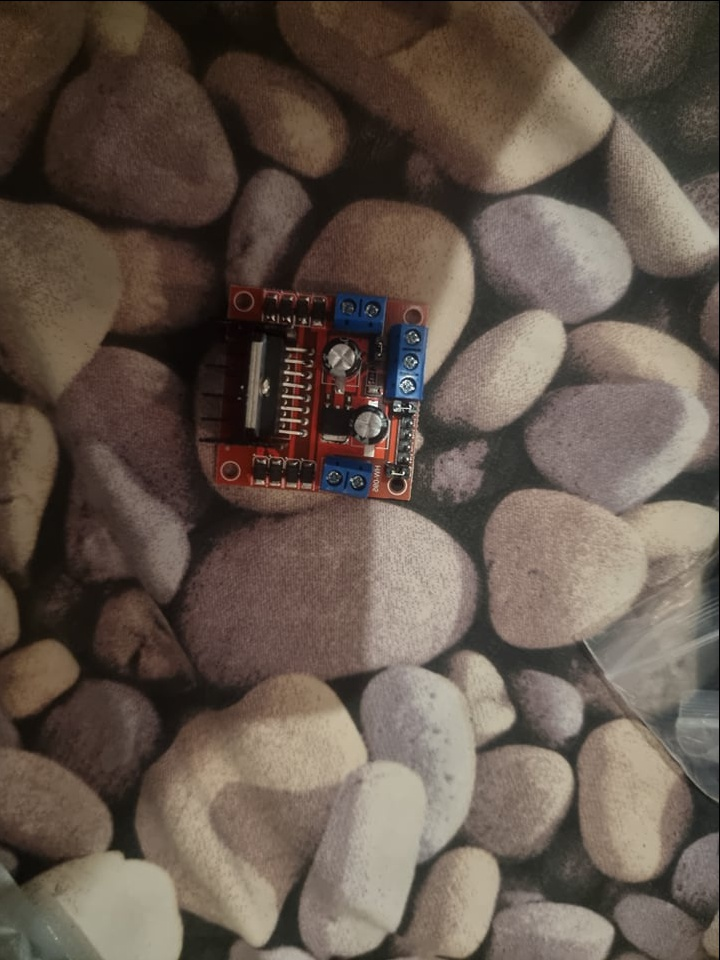MOTOR: (213, 277, 431, 500)
